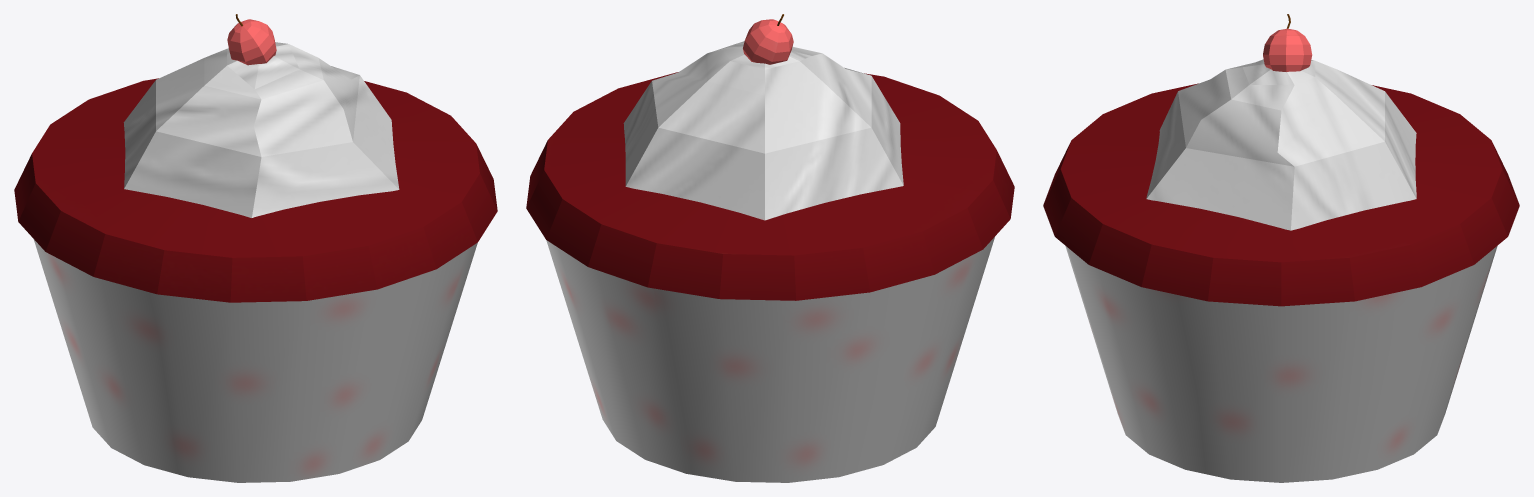
File: cupcake.fbx
3 views of the same model, side by side, from view 1: azimuth 30°, elevation 25°; view 2: azimuth 150°, elevation 25°; view 3: azimuth 270°, elevation 25° (orthographic). The views are drawn at different scales.
Visible parts, largest first — view 1: CupCake; view 2: CupCake; view 3: CupCake.
Part boxes in pixels (bbox=[...]): CupCake: bbox=[14, 14, 497, 482]; CupCake: bbox=[526, 14, 1014, 482]; CupCake: bbox=[1043, 14, 1519, 482].
Bounding box in the file's own units: 2.91 × 2.64 × 2.91.
